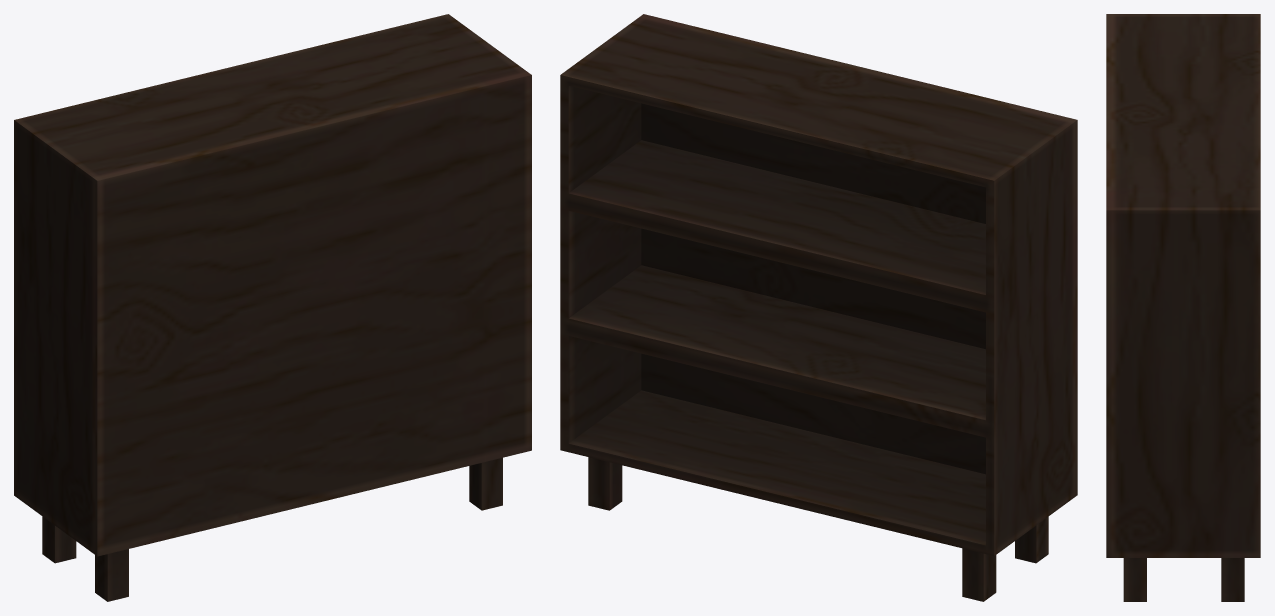
The model's file is Shell.FBX.
3 views of the same model, side by side, from view 1: azimuth 30°, elevation 25°; view 2: azimuth 150°, elevation 25°; view 3: azimuth 270°, elevation 25° (orthographic). The views are drawn at different scales.
Parts seen in each view (by area): view 1: Shell; view 2: Shell; view 3: Shell.
Boxes of the visible parts, bbox=[...] form: Shell: bbox=[14, 14, 531, 601]; Shell: bbox=[560, 14, 1077, 601]; Shell: bbox=[1106, 14, 1260, 601].
Bounding box in the file's own units: 2.25 × 2.14 × 0.7491.
